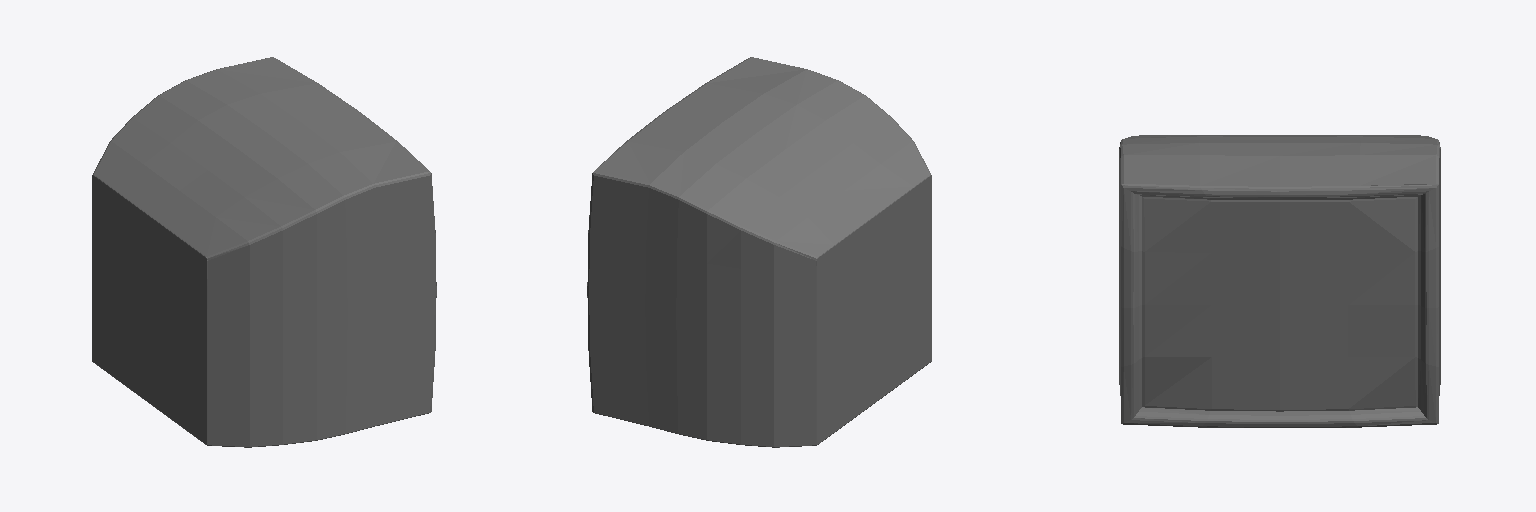
Rendered from prop_teleTubo.obj.
The picture shows the model from 3 angles: view 1: azimuth 30°, elevation 25°; view 2: azimuth 150°, elevation 25°; view 3: azimuth 270°, elevation 25°; orthographic projection.
Visible parts, largest first — view 1: teleTubo; view 2: teleTubo; view 3: teleTubo.
Boxes of the visible parts, x1=… form: teleTubo: x1=92, y1=57, x2=436, y2=447; teleTubo: x1=587, y1=57, x2=931, y2=447; teleTubo: x1=1119, y1=135, x2=1440, y2=427.
Size of the model in its own units: 0.9253 by 1.02 by 1.21.